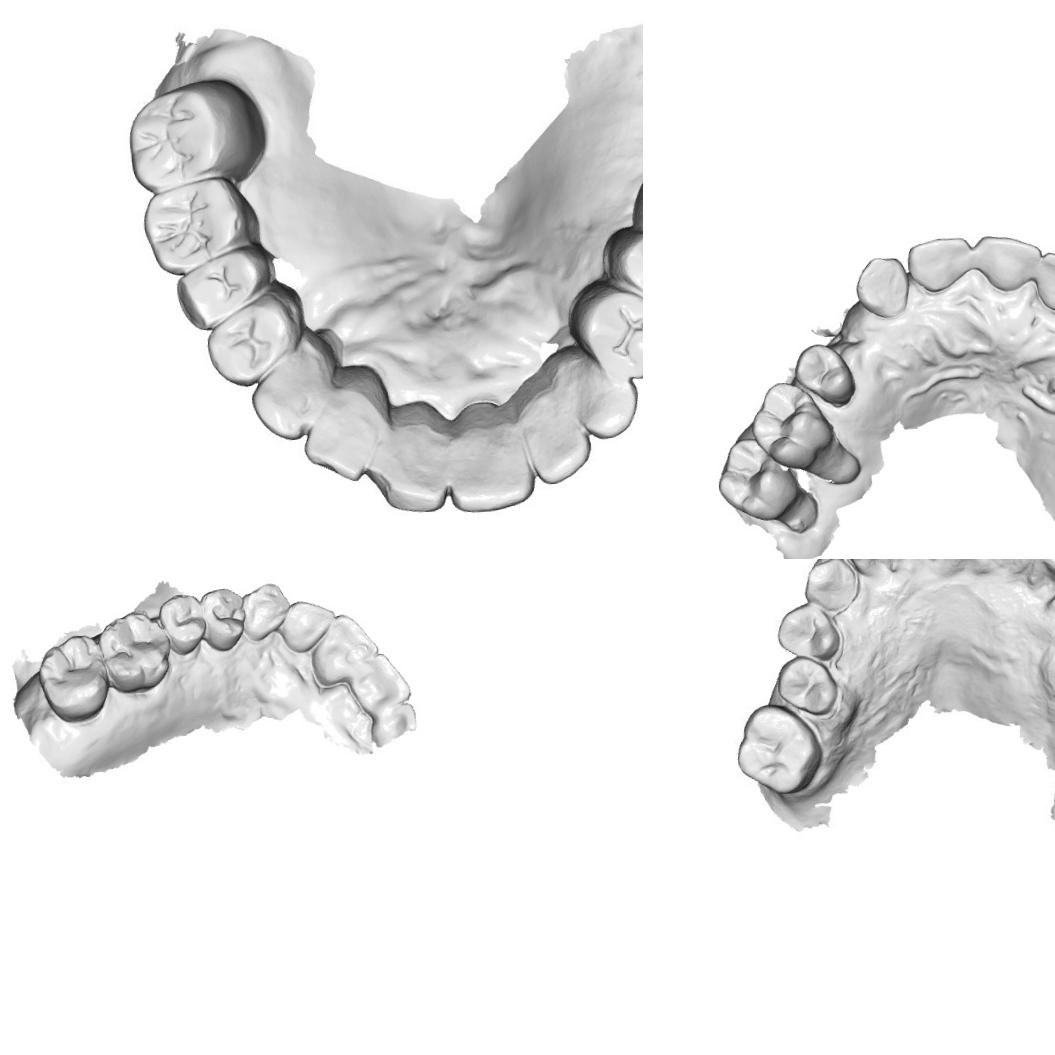canine: (245, 336, 337, 443), (550, 348, 643, 445), (851, 254, 912, 320), (800, 559, 861, 616), (236, 580, 292, 642)
incisor: (439, 398, 532, 520), (300, 356, 388, 481), (368, 384, 450, 512), (506, 384, 594, 484), (306, 610, 381, 690), (974, 229, 1046, 295), (346, 649, 413, 718), (904, 234, 976, 296), (278, 596, 339, 654), (896, 559, 972, 584), (966, 559, 1042, 584), (1030, 245, 1055, 318), (852, 559, 902, 586), (1029, 559, 1055, 603)
molar: (124, 76, 259, 195), (142, 170, 258, 262), (732, 700, 825, 798), (745, 376, 837, 474), (712, 433, 804, 526), (33, 631, 111, 723), (96, 608, 174, 695)
premolar: (204, 288, 304, 386), (171, 242, 278, 333), (566, 278, 643, 383), (600, 218, 643, 326), (773, 598, 842, 665), (789, 340, 856, 408), (772, 652, 840, 719), (156, 590, 210, 658), (198, 585, 247, 652)
